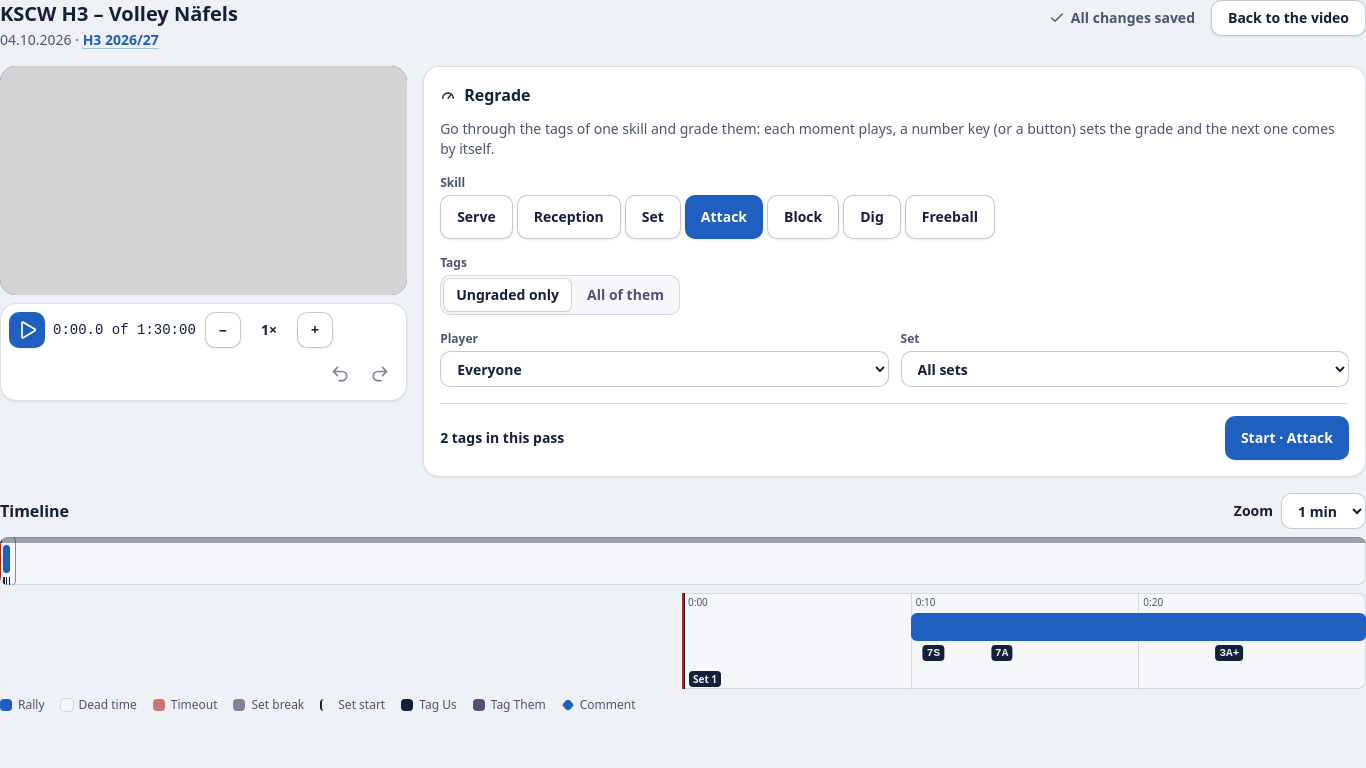
Test: TagPage, the regrade queue › works by touch on a phone, opened from the address
Click the button "Start · Attack".
click(1287, 438)  # box [1225, 416, 1349, 460]
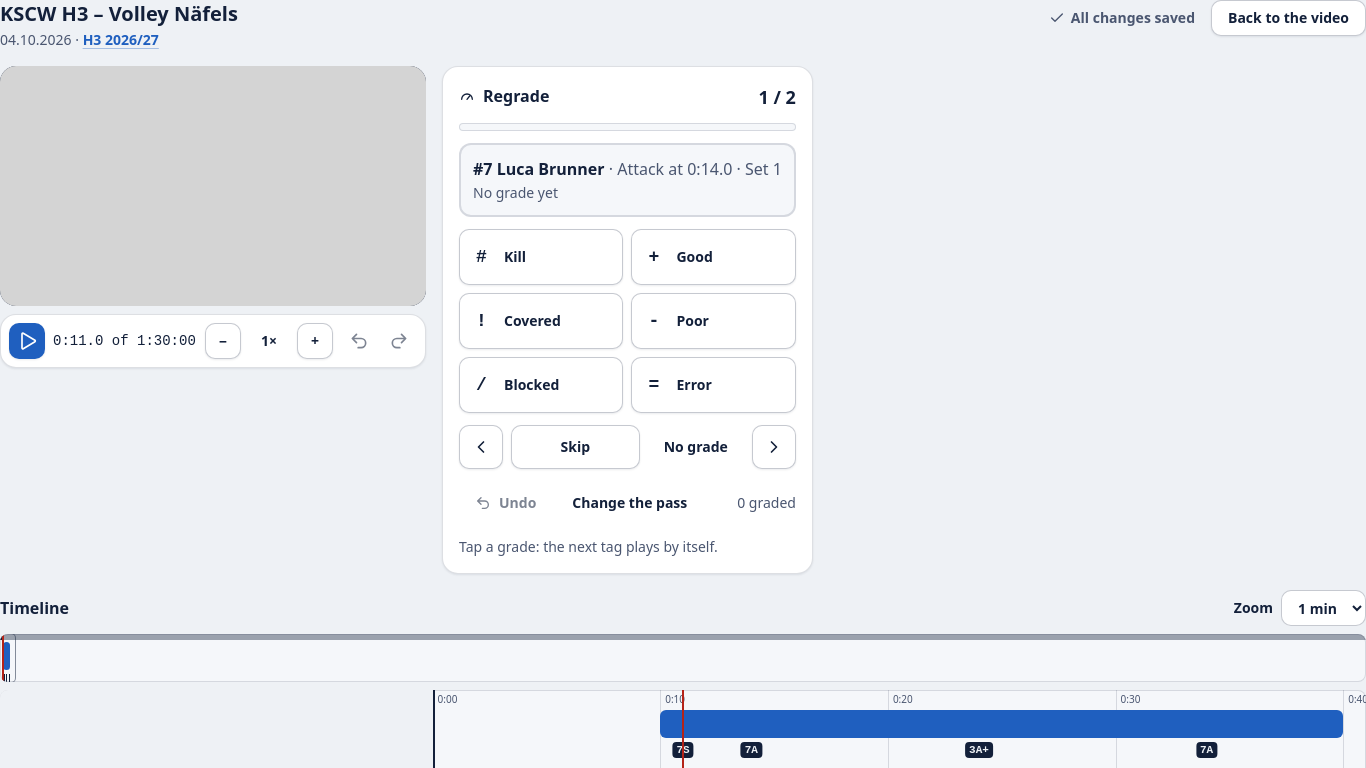
Now the text "Tap a grade: the next tag plays by itself." is shown, box [459, 537, 718, 556]
Click the button with aria-label "+ Good (key 2)".
click(714, 257)  # box [631, 229, 796, 285]
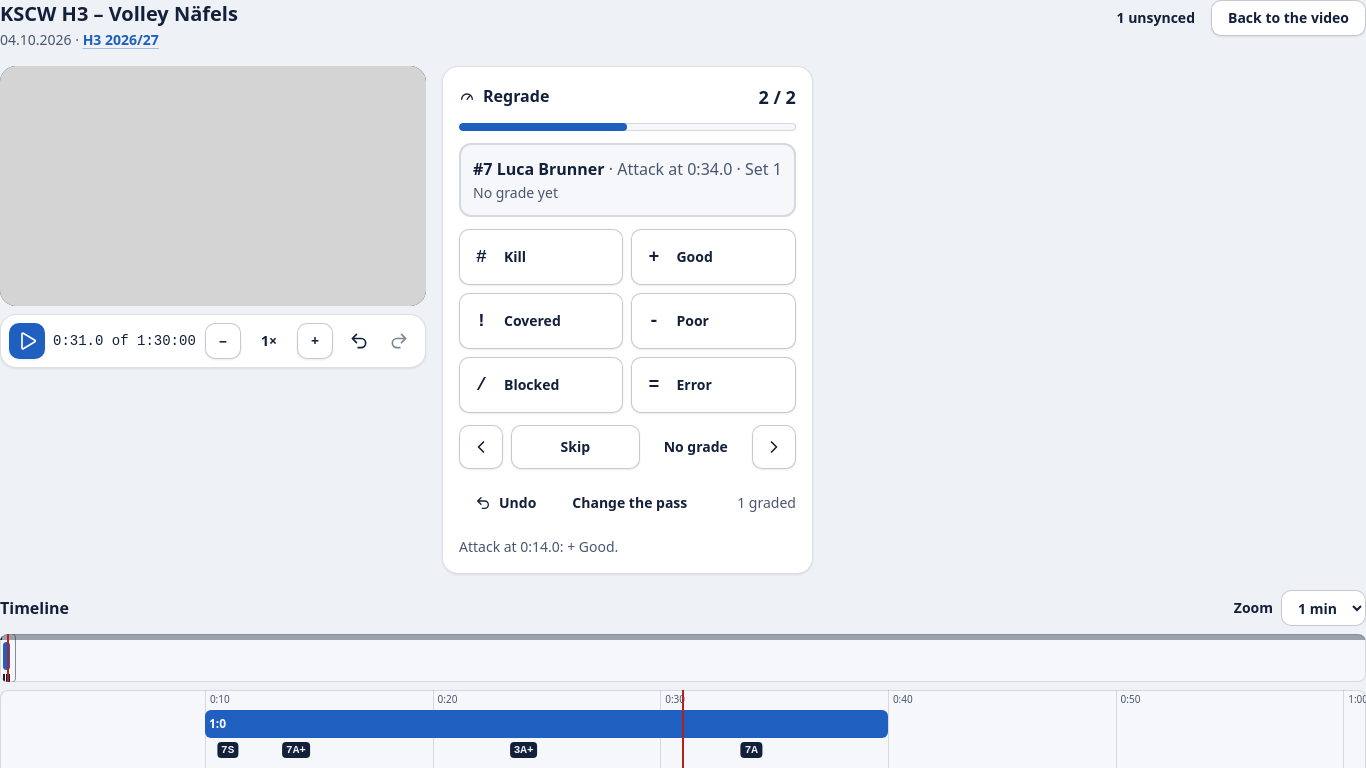
Now the heading "#7 Luca Brunner · Attack at 0:34.0 · Set 1" is shown, box [473, 157, 782, 181]
Click the button with aria-label "No grade (key 0)".
click(696, 447)  # box [648, 425, 744, 469]
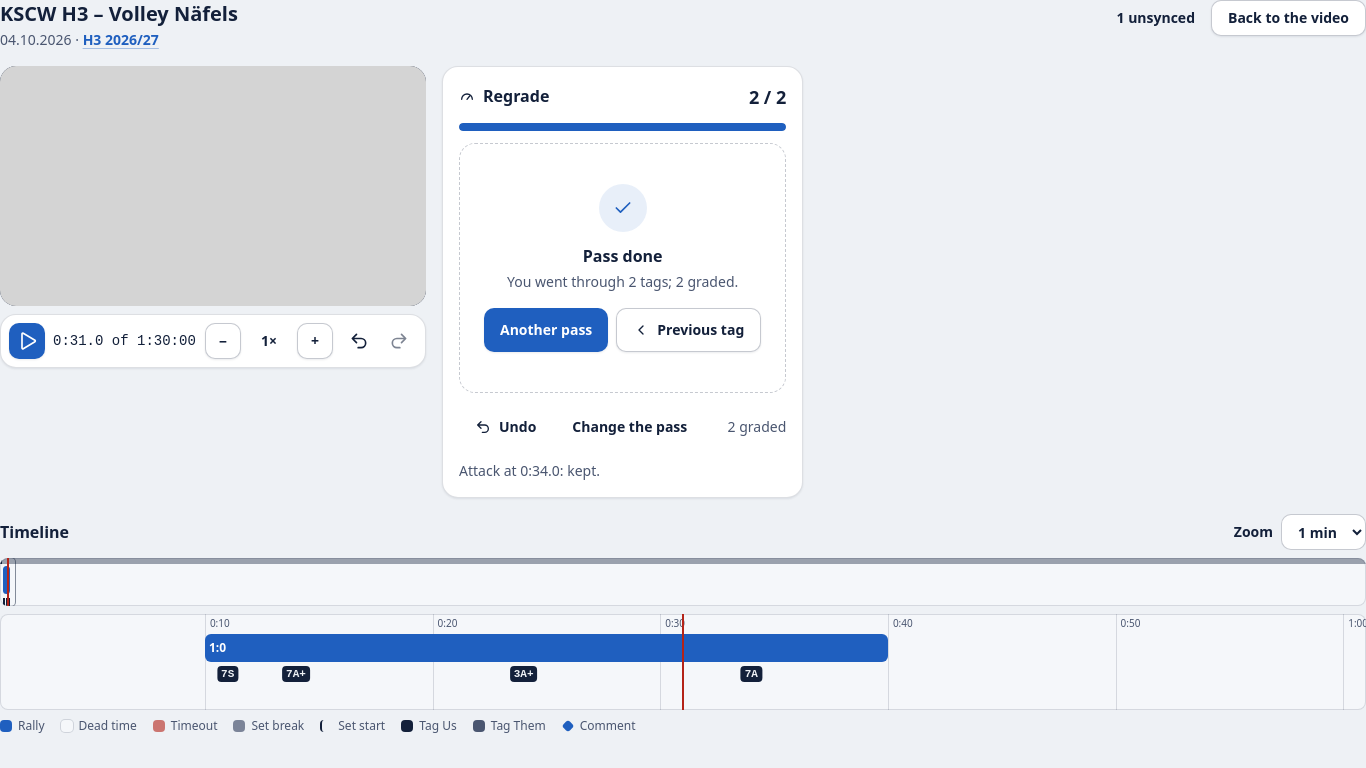
Now the text "Pass done" is shown, box [583, 245, 663, 267]
